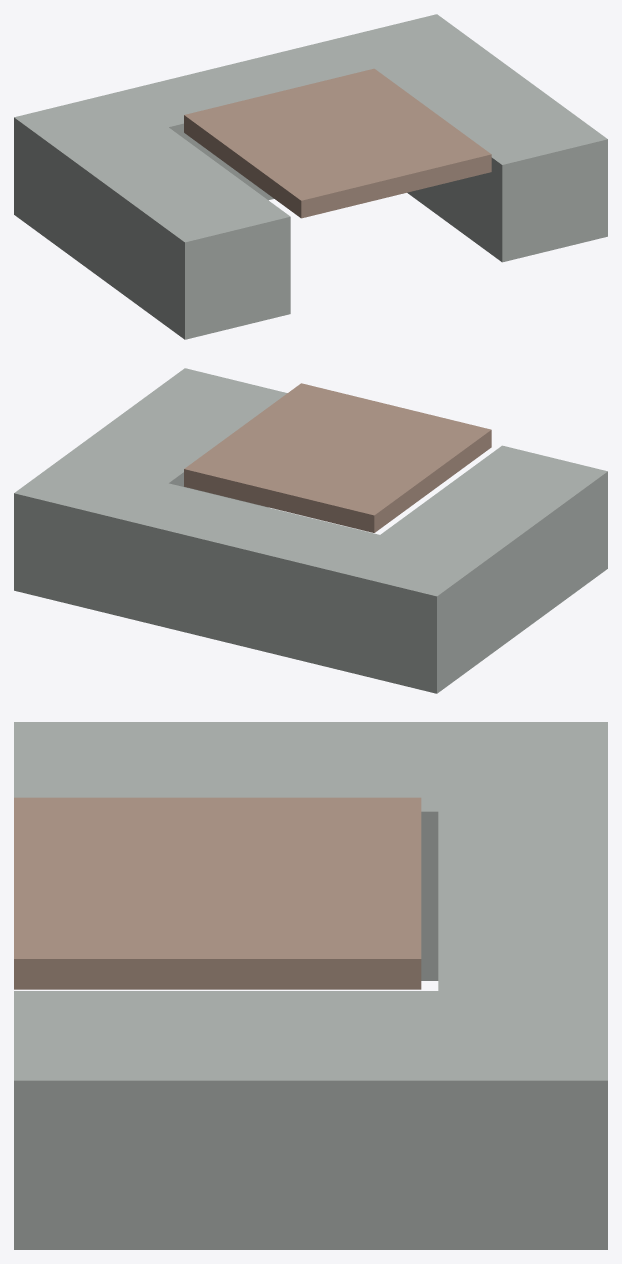
The model's file is wall-gate.glb.
3 views of the same model, one above another, from view 1: azimuth 30°, elevation 25°; view 2: azimuth 150°, elevation 25°; view 3: azimuth 270°, elevation 25° (orthographic). The views are drawn at different scales.
Parts seen in each view (by area): view 1: wall-gate; view 2: wall-gate; view 3: wall-gate.
Boxes of the visible parts, x1,y1,x2,y2 form: wall-gate: (14,14,607,339); wall-gate: (14,368,607,693); wall-gate: (14,722,607,1249).
Size of the model in its own units: 2 by 0.5 by 1.4.
